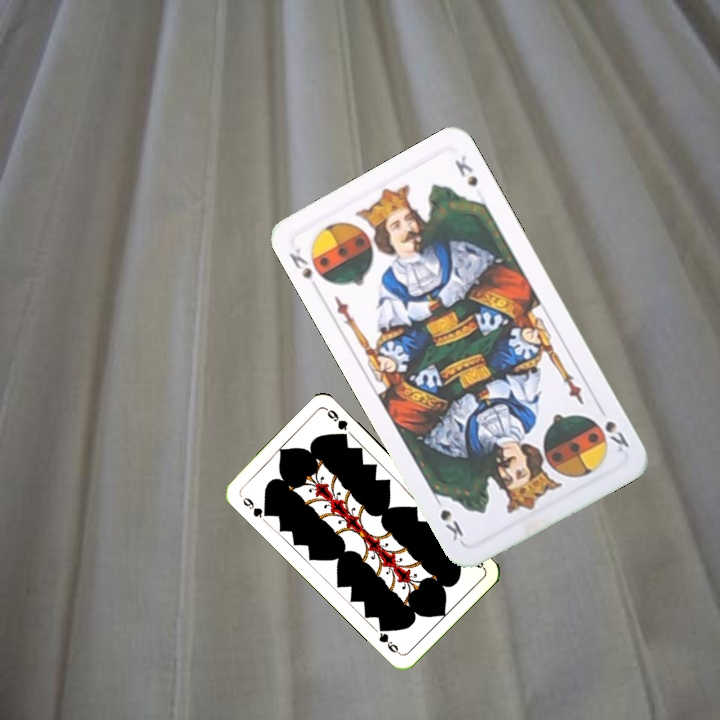G9: (238, 493, 273, 521)
SK: (590, 415, 632, 455), (285, 244, 315, 282)
